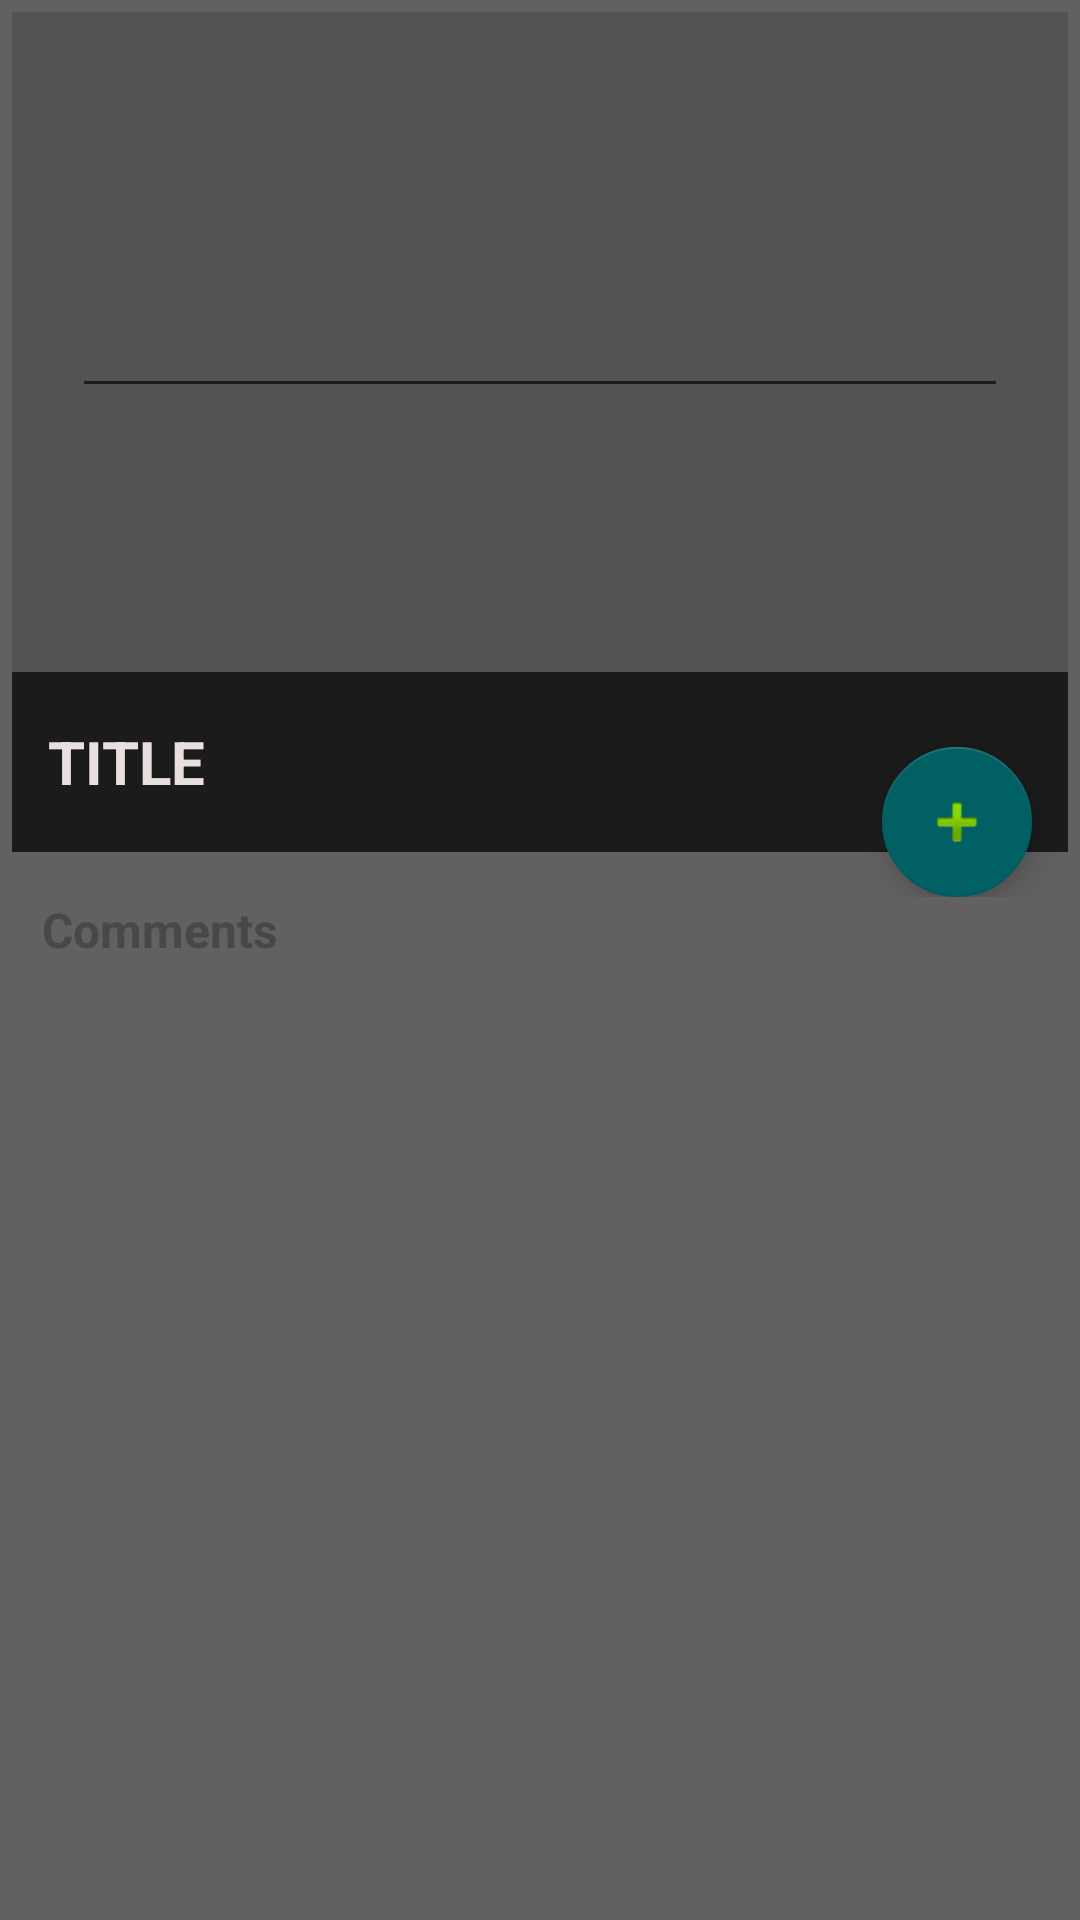

Where to tap for icons on this 1080 × 1920 app screen, as point (x, y):
add: point (957, 822)
